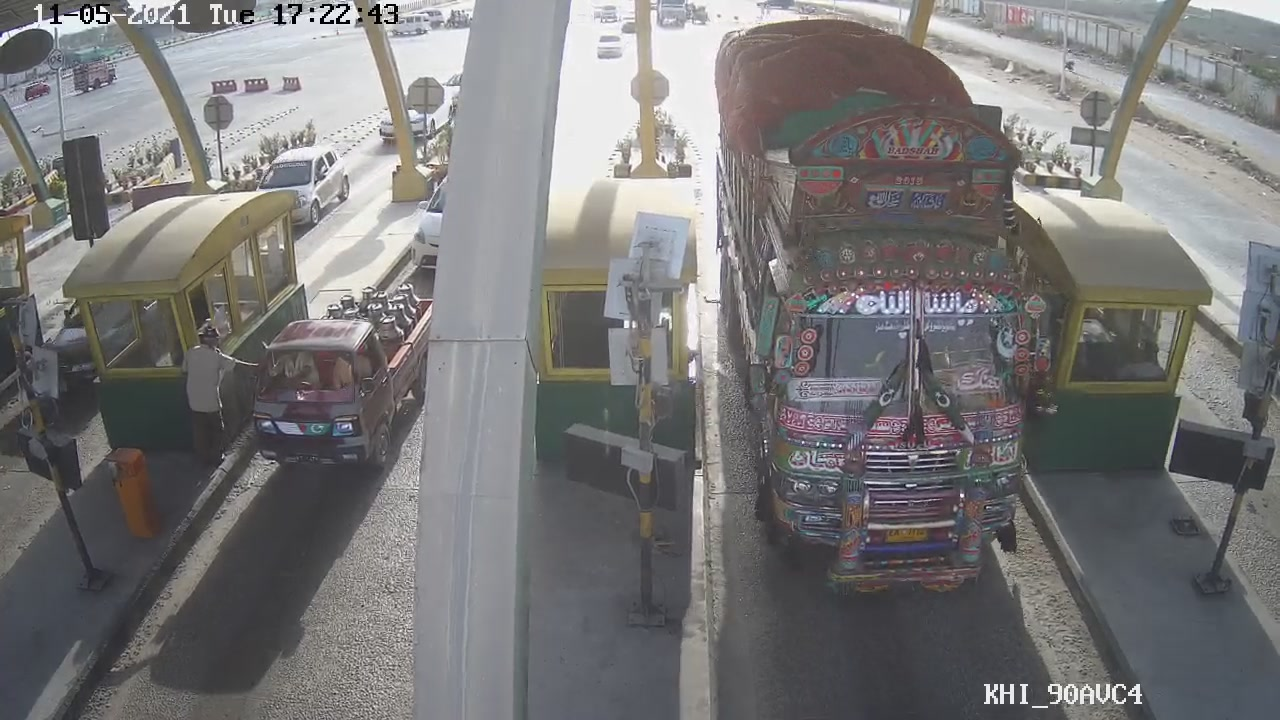F5: (711, 16, 1054, 608)
